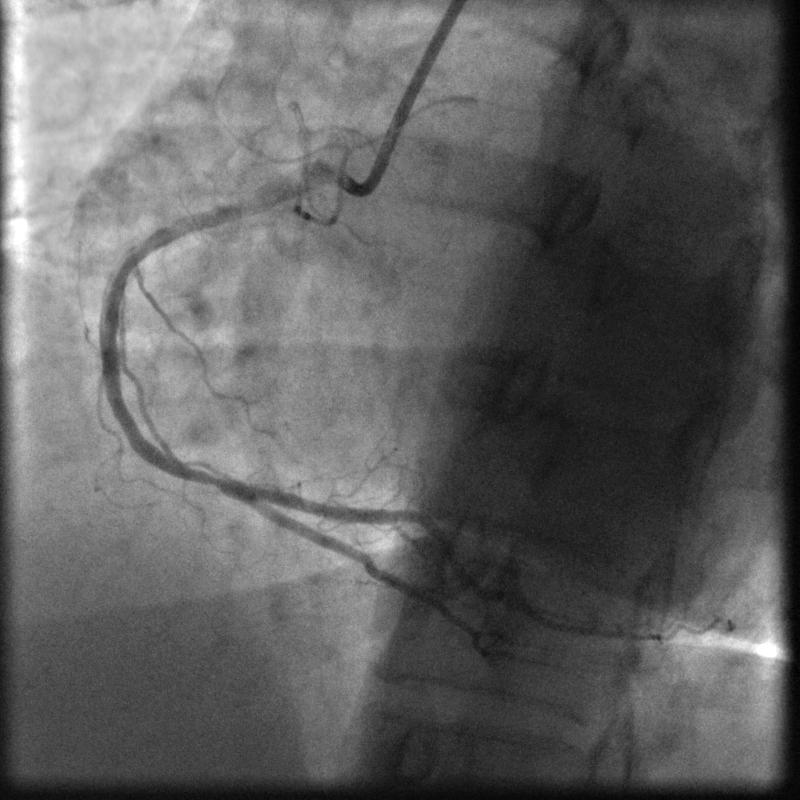Stenosis: (188, 460, 244, 501)
